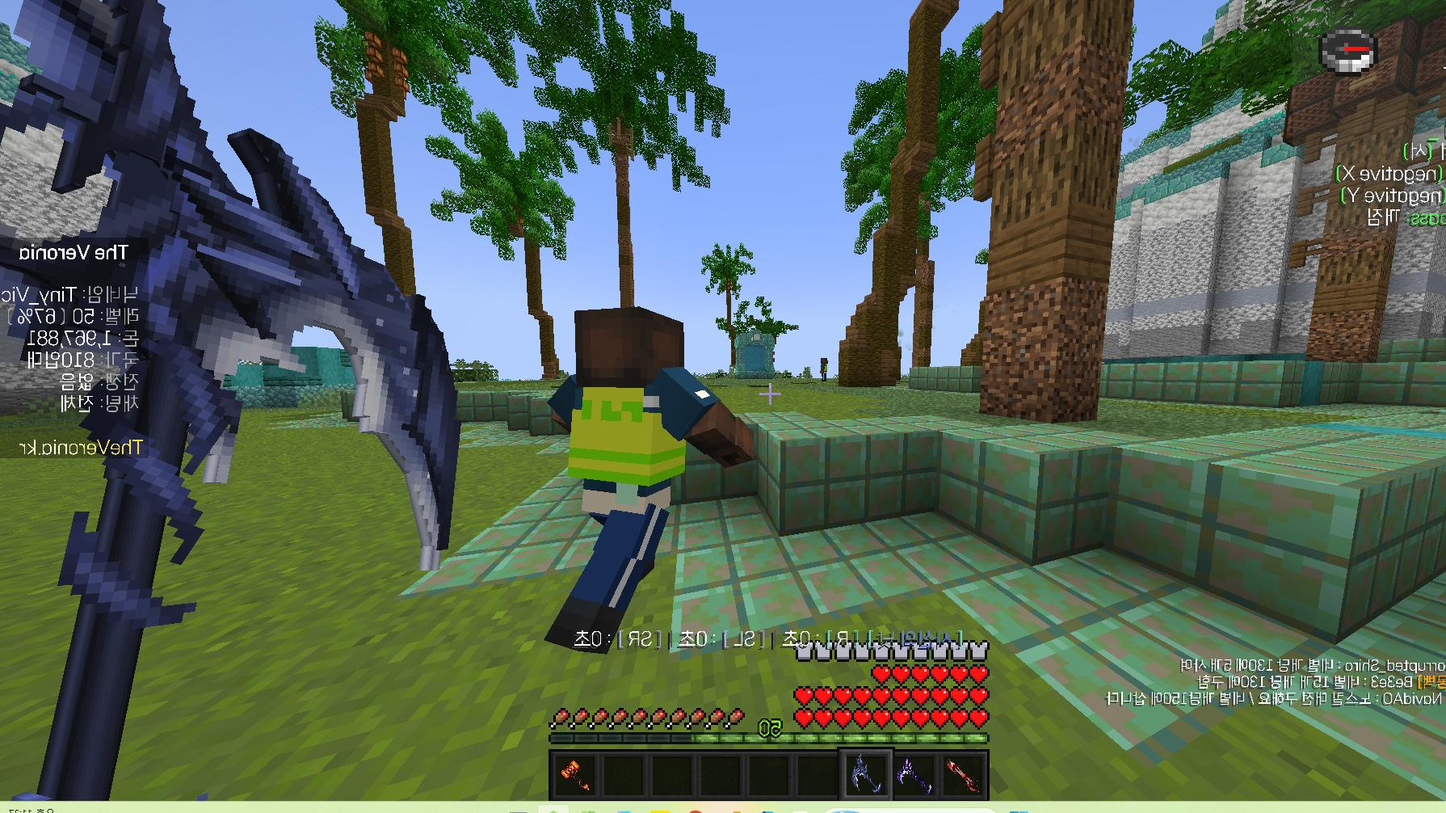Guardian: (547, 305, 752, 653)
